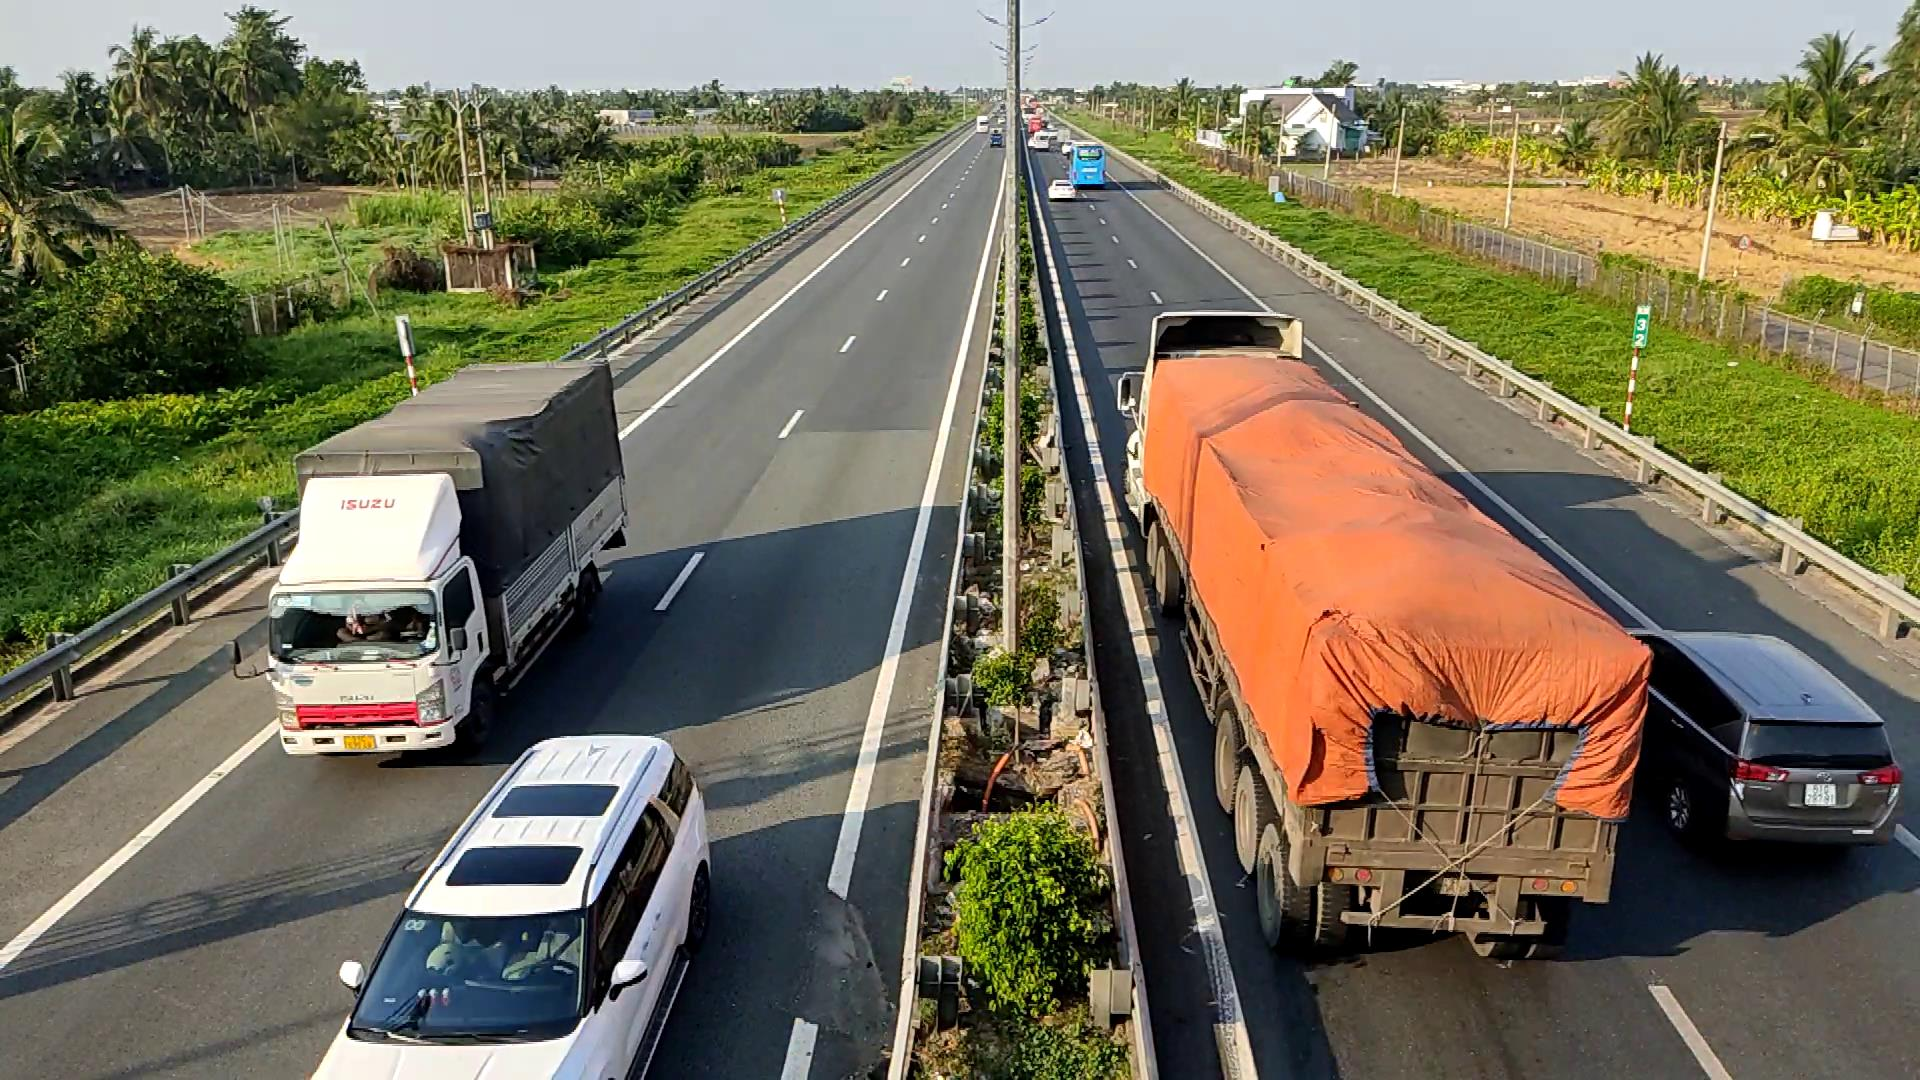car: (307, 732, 716, 1073), (1622, 628, 1904, 858)
truck: (1122, 298, 1651, 959), (261, 355, 629, 760)
